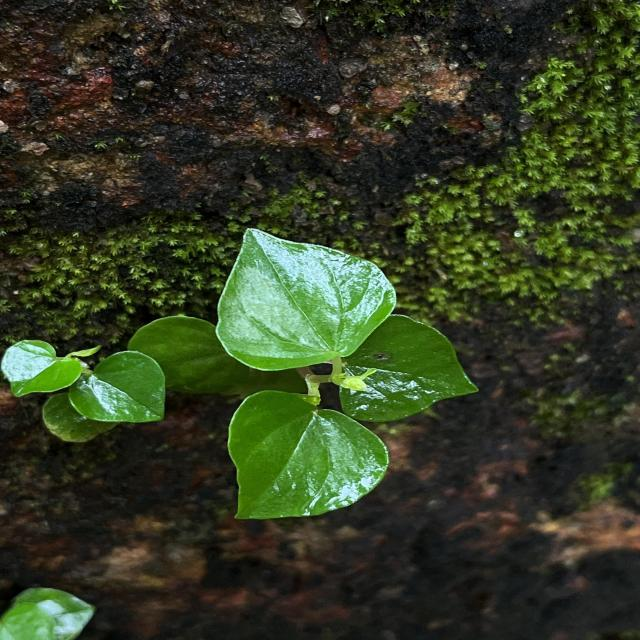Peperomia pellucida: (214, 226, 398, 374), (226, 388, 392, 521)
